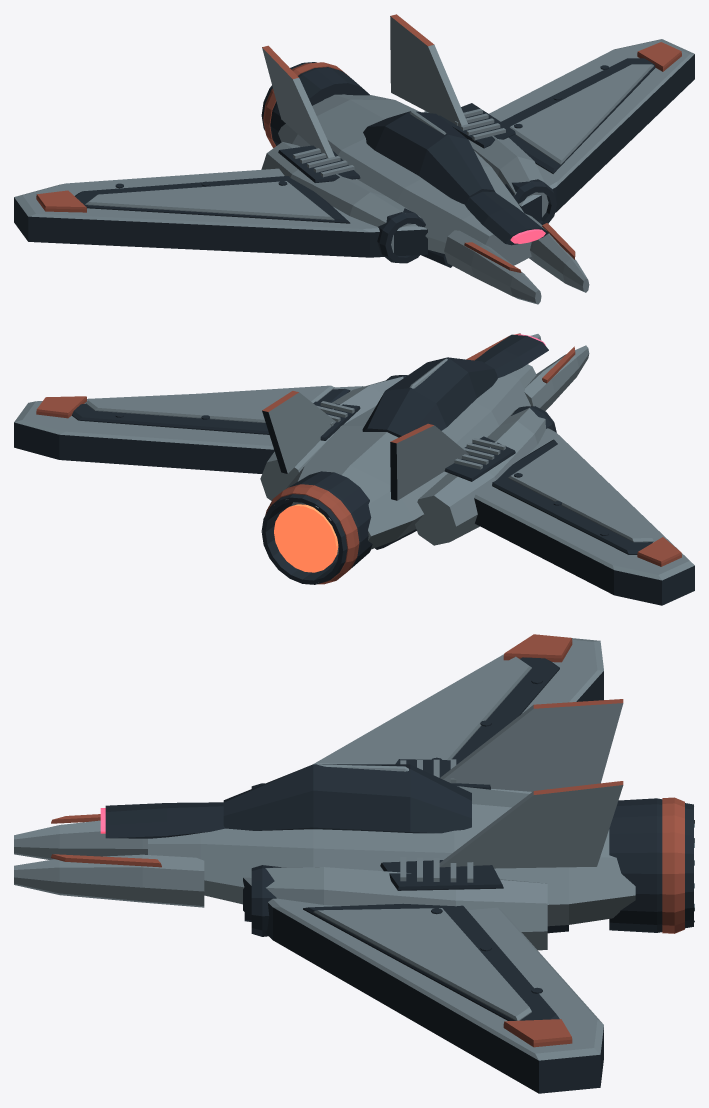
The model's file is interceptor.glb.
The picture shows the model from 3 angles, top to bottom: view 1: azimuth 30°, elevation 25°; view 2: azimuth 150°, elevation 25°; view 3: azimuth 270°, elevation 25°; orthographic projection. The views are drawn at different scales.
Visible parts, largest first — view 1: body; view 2: body, engine; view 3: body.
Boxes of the visible parts, x1,y1,x2,y2 form: body: [14, 14, 694, 304]; body: [14, 333, 694, 605]; engine: [274, 504, 338, 572]; body: [14, 634, 694, 1093].
Size of what is drawn, in the model's own units: 5.72 by 1.17 by 3.87.
